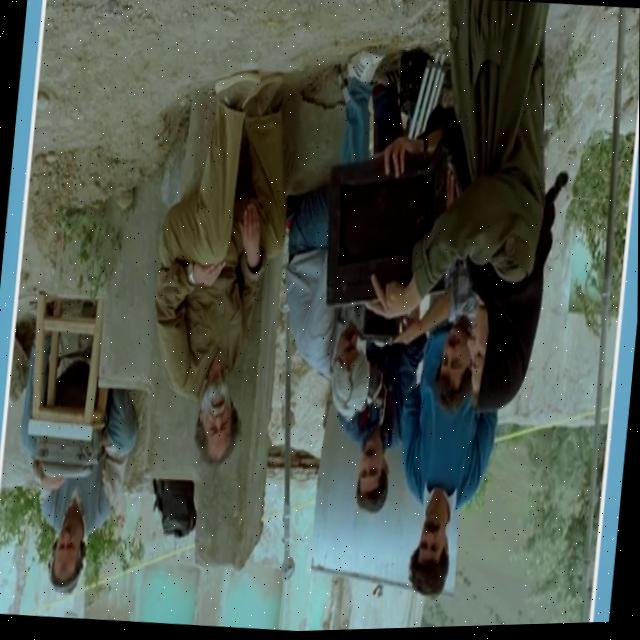Clapperboard: (315, 151, 458, 320)
